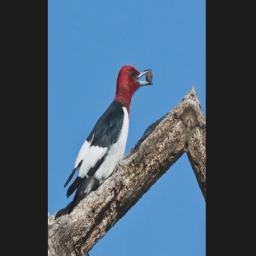Woodpecker: (61, 37, 156, 231)
